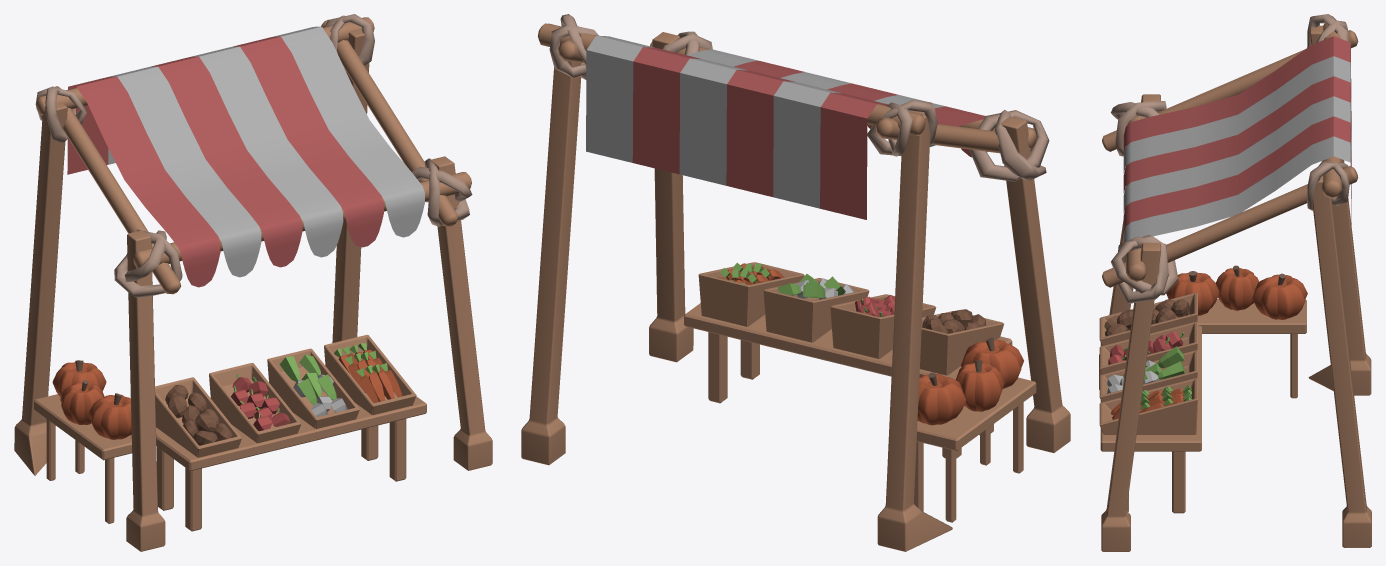
Rendered from Maket stall.fbx.
3 views of the same model, side by side, from view 1: azimuth 30°, elevation 25°; view 2: azimuth 150°, elevation 25°; view 3: azimuth 270°, elevation 25° (orthographic). The views are drawn at different scales.
Parts seen in each view (by area): view 1: Market, Long_table, Apple_bin, Leek_bin, Potato_bin, Carrot_bin, Pumpkins, Short_table; view 2: Market, Long_table, Short_table, Pumpkins, Leek_bin, Carrot_bin, Apple_bin, Potato_bin; view 3: Market, Pumpkins, Carrot_bin, Short_table, Long_table, Leek_bin, Potato_bin, Apple_bin.
Part boxes in pixels (left/top/right/bottom): Market: left=14, top=14, right=492, bottom=551; Long_table: left=156, top=396, right=426, bottom=531; Apple_bin: left=209, top=363, right=301, bottom=443; Leek_bin: left=267, top=348, right=359, bottom=428; Potato_bin: left=155, top=377, right=241, bottom=457; Carrot_bin: left=324, top=334, right=416, bottom=414; Pumpkins: left=52, top=360, right=131, bottom=439; Short_table: left=34, top=394, right=131, bottom=523; Market: left=521, top=14, right=1070, bottom=551; Long_table: left=684, top=303, right=1012, bottom=458; Short_table: left=914, top=377, right=1036, bottom=522; Pumpkins: left=917, top=337, right=1023, bottom=425; Leek_bin: left=763, top=274, right=869, bottom=342; Carrot_bin: left=698, top=262, right=804, bottom=326; Apple_bin: left=830, top=294, right=936, bottom=358; Potato_bin: left=920, top=309, right=1003, bottom=375; Market: left=1099, top=14, right=1371, bottom=551; Pumpkins: left=1166, top=265, right=1307, bottom=319; Carrot_bin: left=1099, top=378, right=1197, bottom=434; Short_table: left=1197, top=299, right=1306, bottom=398; Long_table: left=1100, top=325, right=1201, bottom=513; Leek_bin: left=1099, top=346, right=1197, bottom=402; Potato_bin: left=1099, top=292, right=1197, bottom=345; Apple_bin: left=1099, top=321, right=1197, bottom=374.
Bounding box in the file's own units: 119 × 117 × 77.01.
